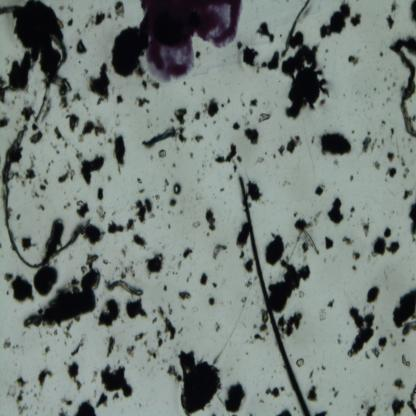Air bubble: (173, 183, 181, 195)
Background material: (0, 1, 71, 112), (22, 251, 100, 329), (277, 45, 330, 120), (168, 349, 221, 416), (267, 260, 312, 312), (110, 20, 148, 78), (0, 51, 35, 103), (346, 307, 376, 359), (391, 291, 416, 339), (100, 362, 132, 399), (319, 2, 350, 38), (87, 62, 111, 107), (3, 272, 34, 303), (375, 226, 401, 260), (33, 263, 57, 298), (155, 304, 177, 340), (223, 381, 247, 414), (44, 218, 67, 252), (264, 231, 286, 266), (76, 118, 107, 142), (81, 154, 105, 184), (320, 131, 350, 155), (276, 313, 303, 337), (98, 299, 120, 328), (124, 298, 150, 321), (81, 222, 105, 246), (277, 133, 302, 156), (64, 360, 82, 391), (133, 198, 155, 222), (174, 108, 188, 145), (114, 132, 126, 175), (213, 143, 238, 163), (242, 47, 260, 74), (24, 152, 38, 186), (328, 197, 345, 225), (260, 49, 280, 72), (256, 20, 276, 43), (146, 251, 163, 277), (386, 1, 400, 31), (73, 398, 96, 416), (235, 222, 250, 249), (245, 182, 263, 203), (407, 202, 416, 243), (243, 126, 260, 146), (372, 337, 388, 358), (58, 160, 74, 181), (37, 366, 52, 388), (202, 97, 219, 116), (106, 220, 125, 237), (19, 103, 36, 122), (366, 285, 382, 305), (406, 384, 416, 416), (69, 337, 84, 358), (361, 398, 378, 416), (132, 231, 148, 250), (211, 243, 228, 260), (120, 262, 136, 280), (87, 12, 106, 27), (76, 200, 90, 220), (17, 389, 28, 414), (399, 155, 410, 180), (258, 309, 269, 334), (264, 385, 285, 398), (21, 237, 38, 253), (364, 136, 378, 154), (204, 210, 216, 231), (66, 114, 80, 132), (305, 384, 319, 402), (245, 96, 259, 114), (96, 390, 109, 408), (74, 37, 87, 55), (106, 334, 116, 357), (361, 218, 372, 238), (114, 2, 126, 20), (294, 216, 308, 231), (63, 320, 74, 339), (124, 342, 135, 360), (5, 338, 19, 352), (148, 79, 162, 93), (258, 110, 272, 124), (391, 399, 404, 414), (52, 125, 64, 141), (30, 130, 43, 144), (312, 183, 325, 197), (409, 0, 416, 26), (38, 178, 50, 193), (350, 13, 362, 28), (244, 258, 254, 276), (155, 328, 164, 348), (17, 374, 28, 390), (176, 290, 192, 301), (96, 202, 107, 218), (220, 93, 230, 110), (58, 395, 72, 407), (384, 166, 398, 178), (400, 353, 411, 368), (135, 95, 150, 106), (385, 148, 395, 164), (182, 247, 194, 260), (190, 109, 201, 123), (349, 53, 360, 67), (0, 115, 10, 130), (401, 188, 413, 200), (120, 244, 129, 260), (350, 250, 362, 262), (146, 349, 159, 360), (393, 379, 406, 390), (376, 46, 386, 60), (296, 356, 306, 370), (157, 146, 167, 160), (136, 180, 146, 194), (324, 237, 334, 251), (96, 185, 104, 202), (6, 385, 17, 397), (254, 154, 265, 166), (276, 408, 292, 416), (372, 158, 381, 172), (212, 320, 221, 334), (200, 272, 208, 287), (236, 38, 244, 53), (133, 332, 147, 340), (318, 308, 326, 322), (70, 92, 80, 103), (126, 220, 136, 231), (342, 236, 354, 245), (331, 386, 340, 398), (253, 333, 265, 342), (348, 204, 355, 219), (194, 132, 204, 142), (326, 298, 336, 308), (297, 290, 306, 301), (162, 178, 169, 192), (176, 258, 183, 272), (208, 294, 215, 308), (116, 94, 124, 106), (90, 370, 98, 382), (139, 79, 148, 89), (57, 408, 68, 416), (308, 362, 313, 379), (314, 410, 328, 416), (15, 211, 22, 223), (30, 124, 40, 132), (243, 280, 253, 288), (350, 264, 358, 274), (168, 198, 178, 206), (219, 184, 226, 195), (238, 250, 244, 262), (319, 363, 327, 372), (232, 122, 241, 130), (112, 392, 120, 401), (176, 325, 184, 334), (236, 154, 243, 164), (184, 273, 190, 284), (381, 118, 389, 126), (66, 18, 74, 26), (192, 221, 201, 228), (67, 5, 74, 13), (211, 281, 218, 289), (151, 317, 158, 325), (392, 124, 396, 138), (44, 345, 50, 354), (232, 164, 238, 173), (162, 284, 167, 292), (228, 174, 233, 180), (108, 138, 112, 144), (190, 155, 194, 159)
Cellulose filter fibre: (0, 124, 84, 268), (395, 35, 416, 141), (281, 1, 312, 57), (106, 278, 143, 298)
Cotton: (142, 127, 177, 148)
Diatom: (300, 229, 319, 253)
Hair: (236, 175, 312, 416)
Pen: (139, 0, 242, 82)
